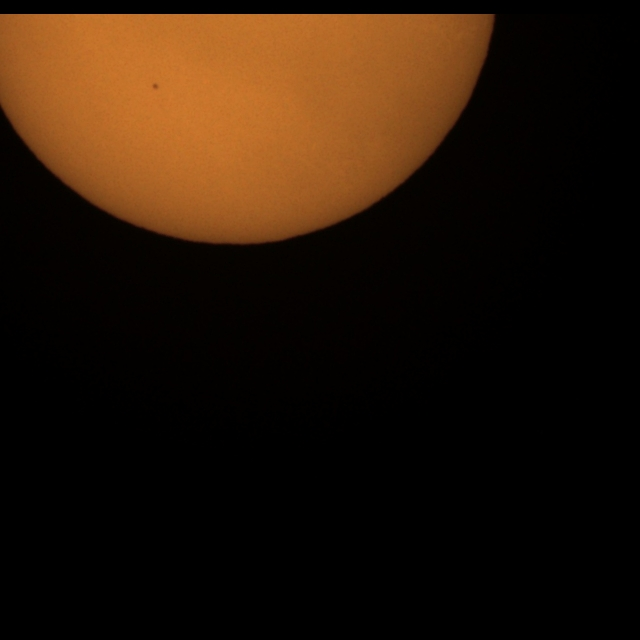sunspot: (151, 82, 160, 91)
